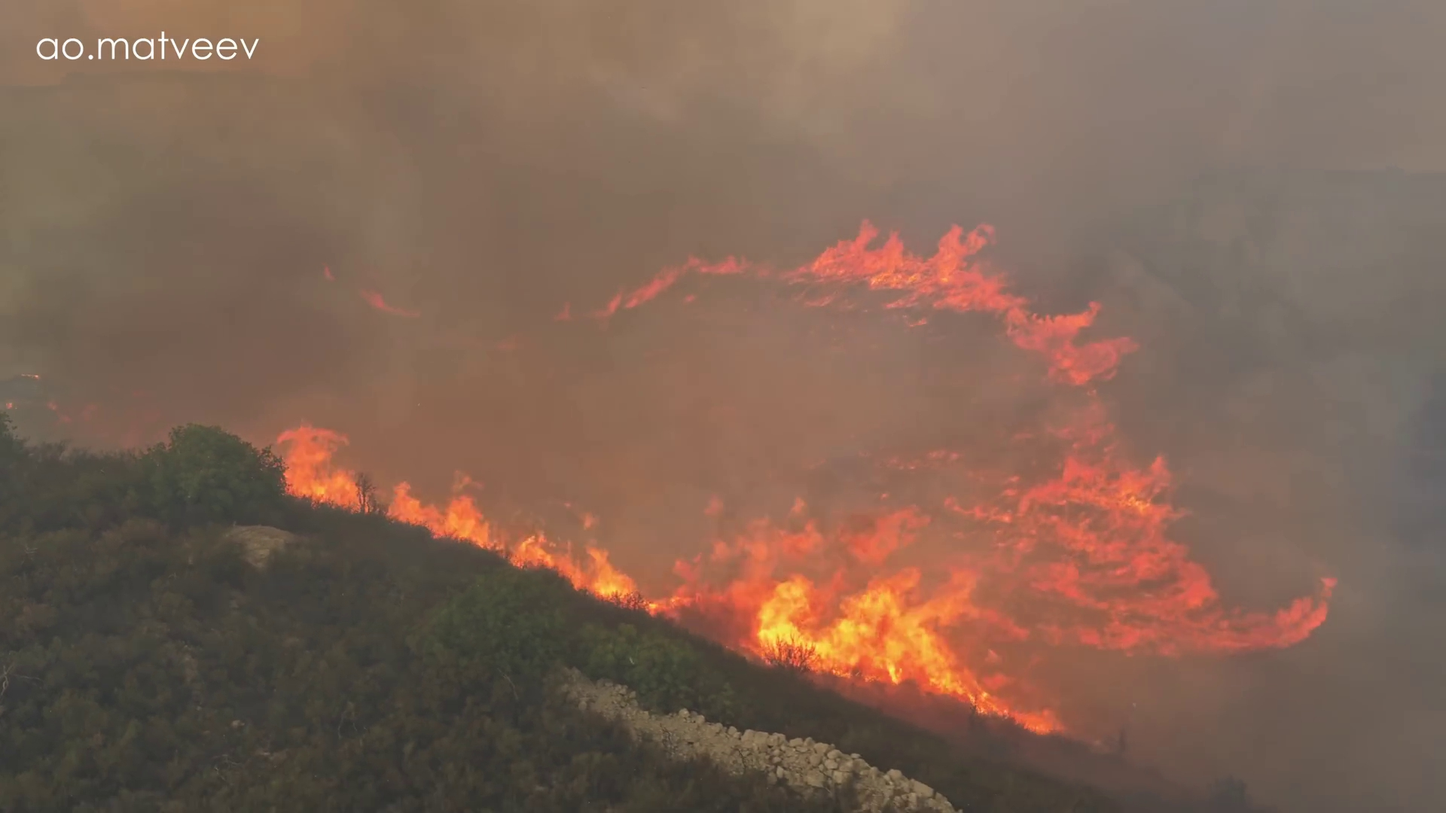forest_fire: (641, 424, 1335, 732), (777, 221, 1137, 384), (382, 482, 639, 597), (807, 224, 986, 282), (601, 258, 749, 315), (277, 425, 375, 510)
